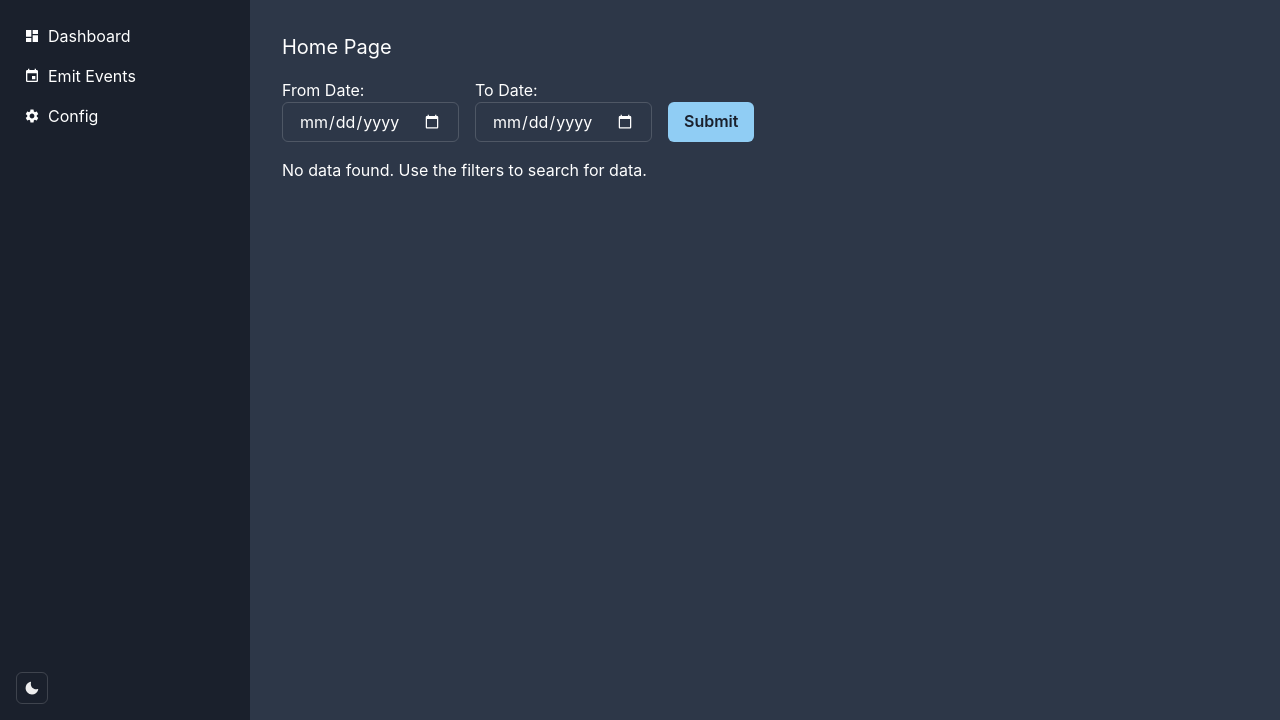
Navigation › should navigate to the config page
This screenshot has width=1280, height=720.
Click the link "Config" at (61, 116), box [24,106,98,126]
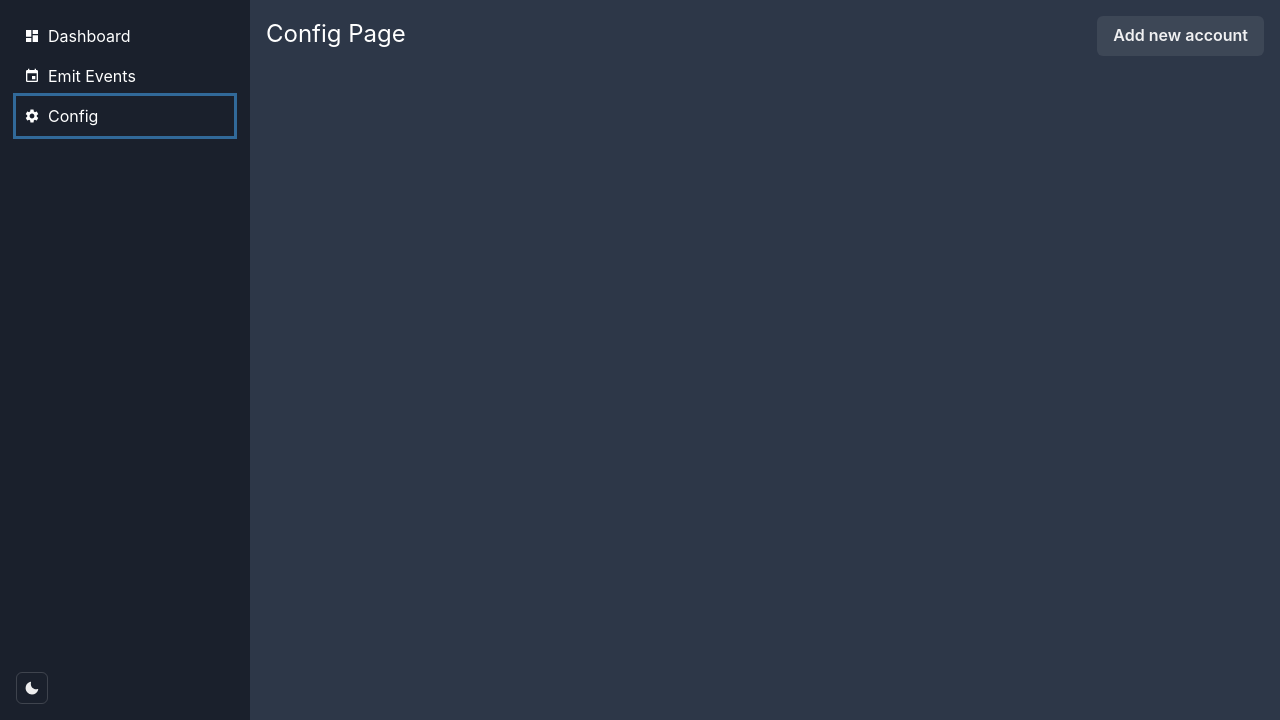
Check: the text "Config Page" is shown, box [266,16,406,52]
